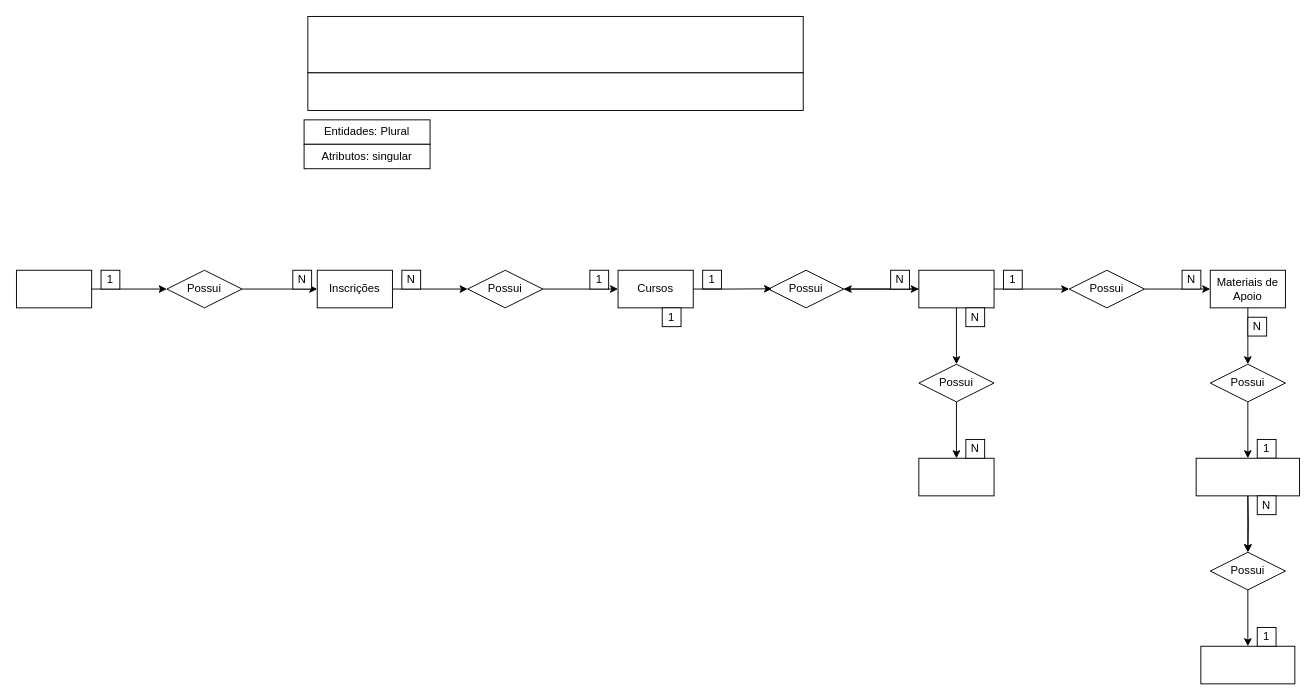
Image size: 1316x700. Some labels were removed from this diagram. Each missing label, with the centre of its shape:
"Acompanhamentos" belongs at (x=1247, y=476).
"Aulas" belongs at (x=956, y=288).
"Avaliações" belongs at (x=1247, y=664).
"Categorias" belongs at (x=956, y=476).
"Diagrama Conceitual" belongs at (x=555, y=44).
"Sistema de cursos Gratuitos" belongs at (x=555, y=91).
"Usuários" belongs at (x=54, y=288).
